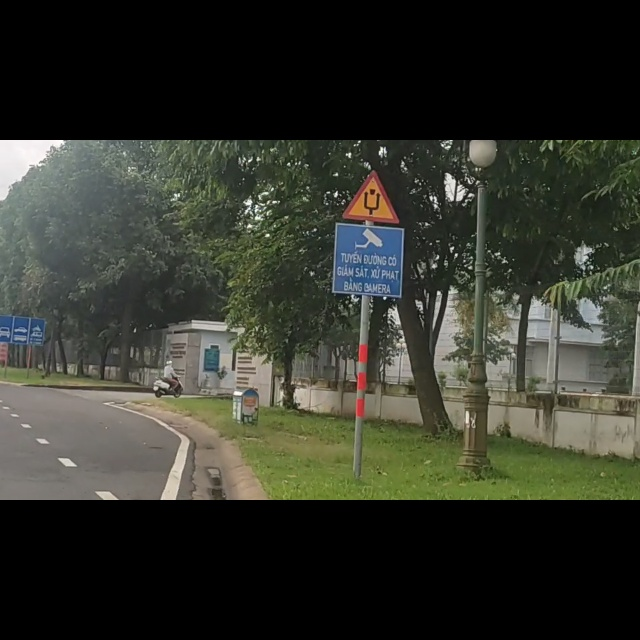bien_chi_dan: (340, 49, 404, 151)
